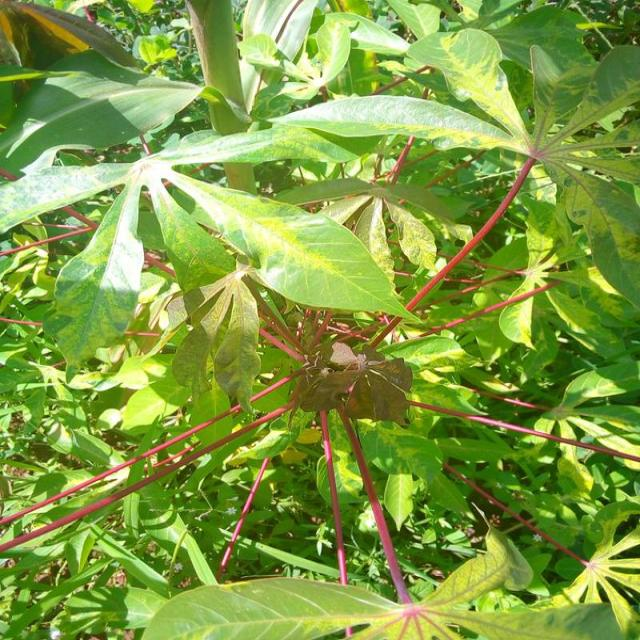Mosaico: (32, 149, 398, 419), (350, 20, 640, 352), (243, 550, 556, 640), (305, 318, 422, 424)
